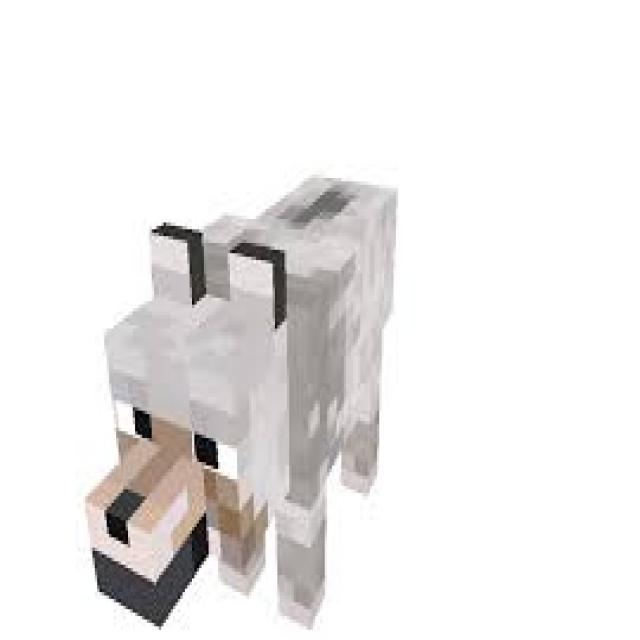Wolf: (80, 168, 400, 633)
